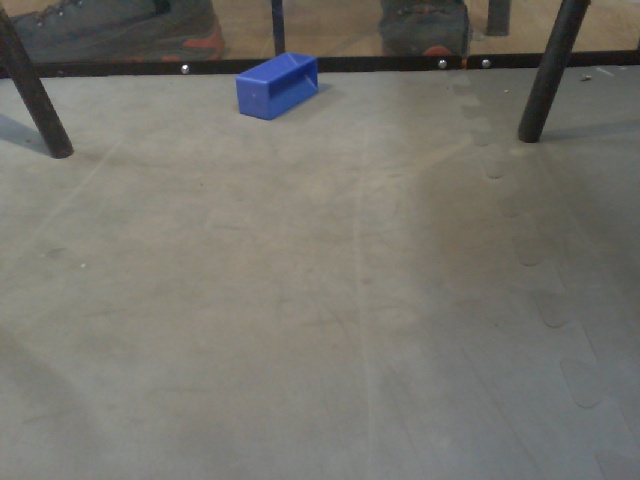BlueSample: (235, 50, 321, 122)
